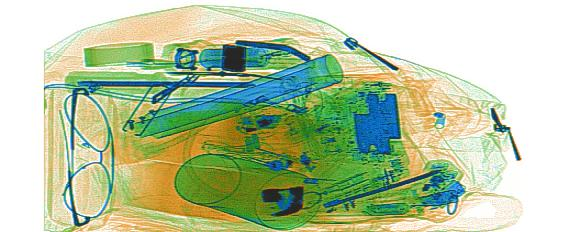battery: (195, 45, 269, 71), (365, 202, 409, 217), (242, 130, 261, 156), (254, 112, 282, 125)
